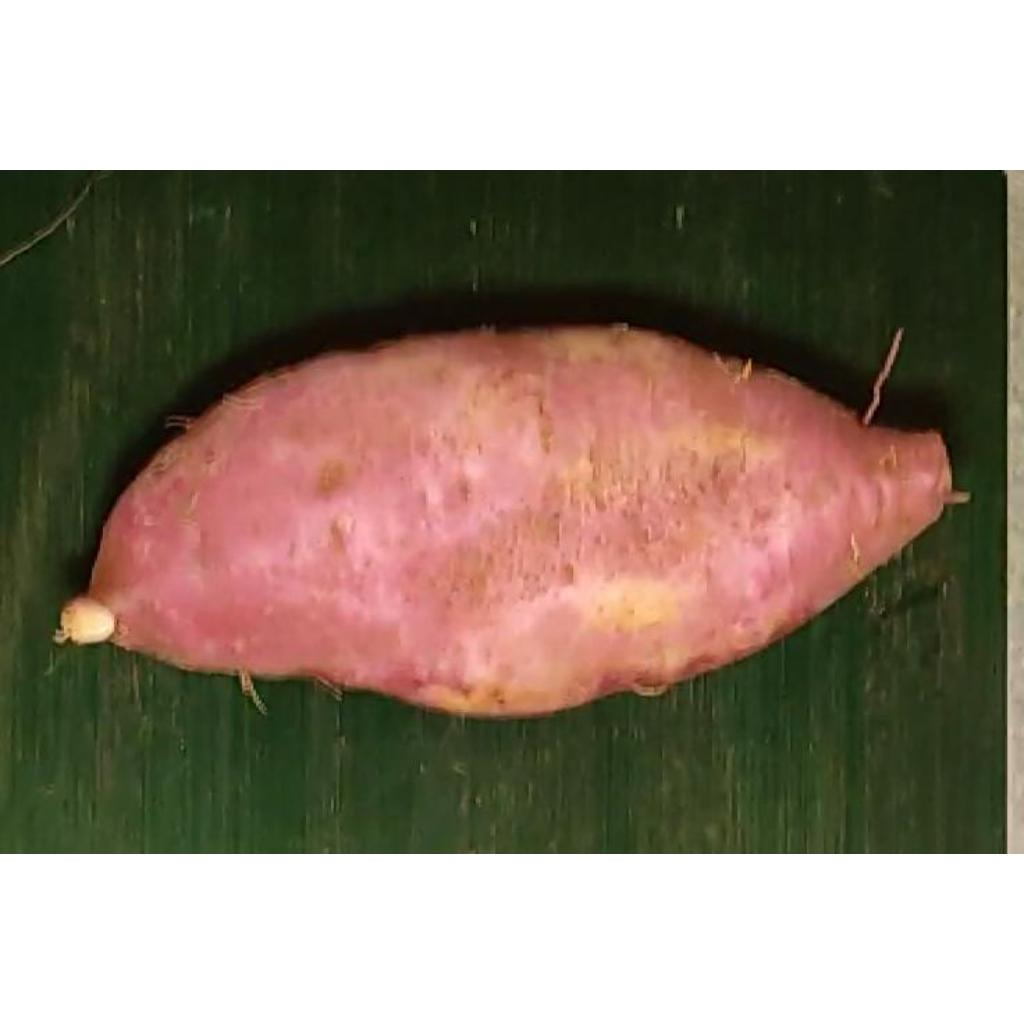Sweet Potato: (65, 326, 961, 714)
